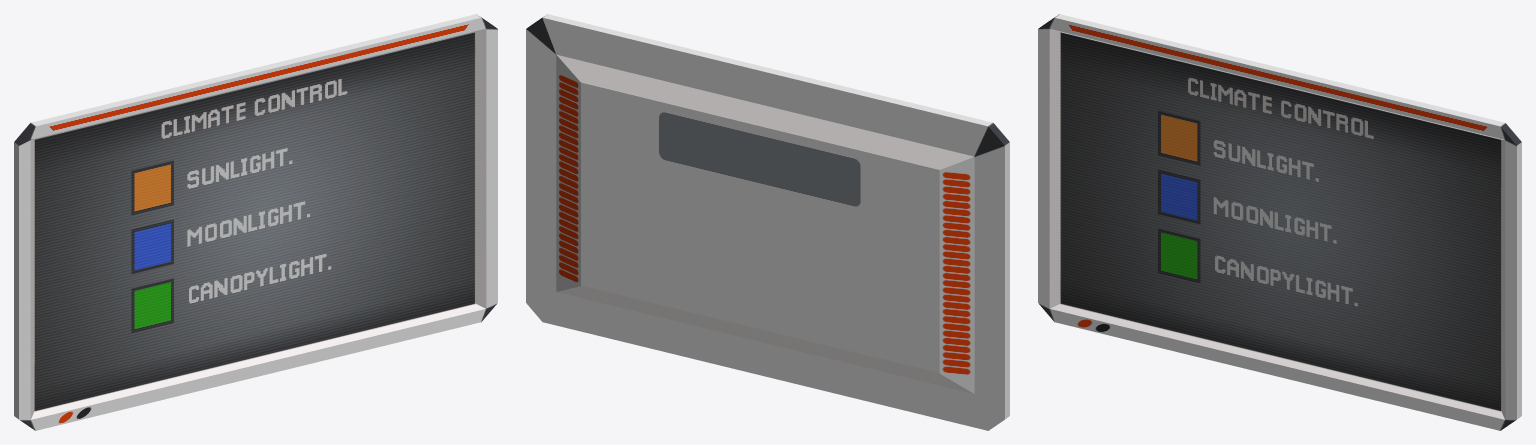
The picture shows the model from 3 angles, left to right: view 1: azimuth 30°, elevation 25°; view 2: azimuth 150°, elevation 25°; view 3: azimuth 330°, elevation 25°; orthographic projection.
Parts seen in each view (by area): view 1: pCube1; view 2: pCube1; view 3: pCube1.
Boxes of the visible parts, x1,y1,x2,y2 form: pCube1: (14, 14, 497, 430); pCube1: (526, 14, 1009, 430); pCube1: (1038, 14, 1521, 430).
Bounding box in the file's own units: 0.563 × 0.3421 × 0.0207.
1 material, 1 textured.
